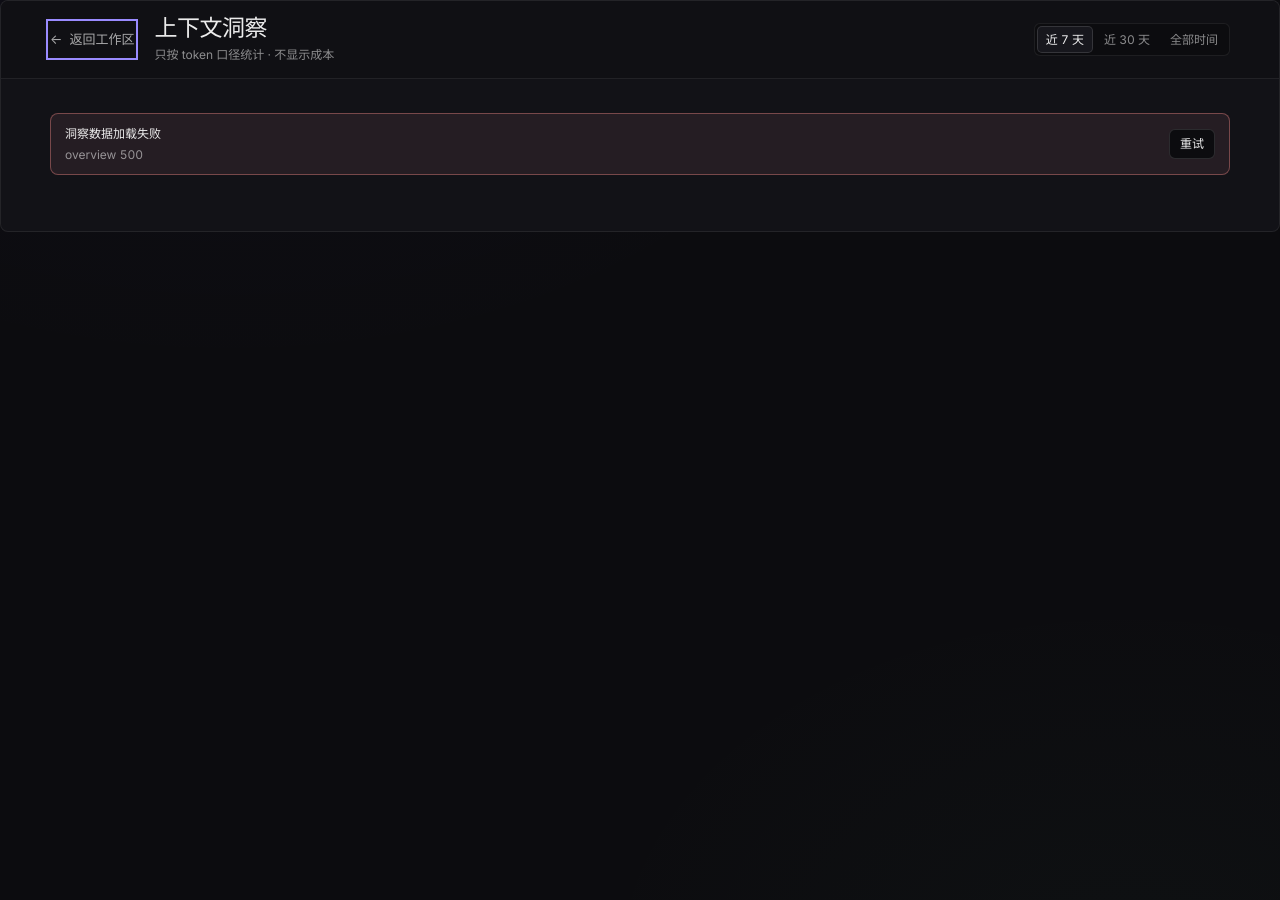
Test: InsightsPage › keeps the page shell and shows a retryable error when the overview request fails
Expected: the heading "上下文洞察" is shown, [154,14,267,42]
Expected: the button with class "ctx-insights-back" is shown, [50,23,134,56]
Click the button "重试": click(1192, 144) [1169,129,1215,159]
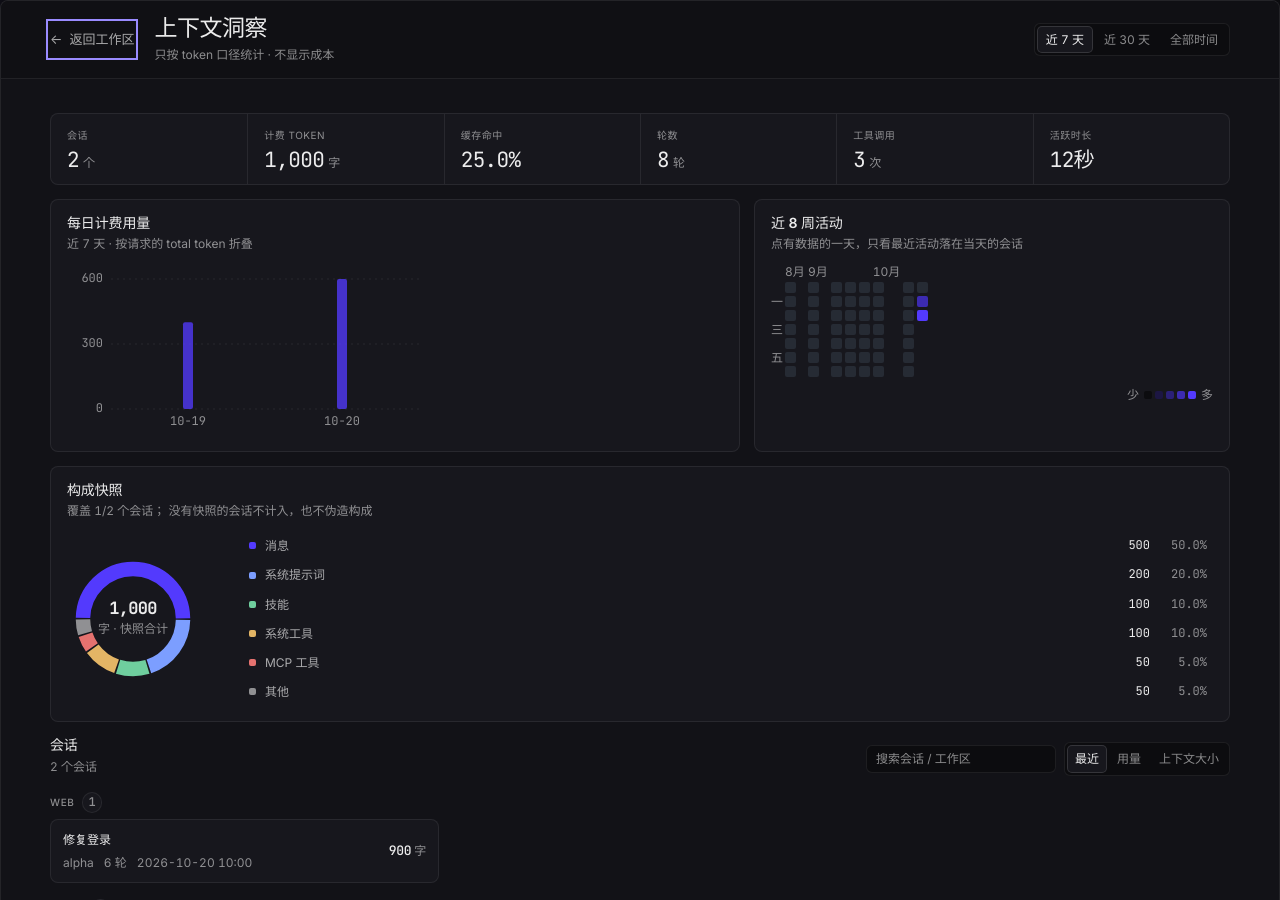
Result: the message with class "ctx-insights-error" is gone
Result: the text "1,000" is shown at [264,146,324,173]
